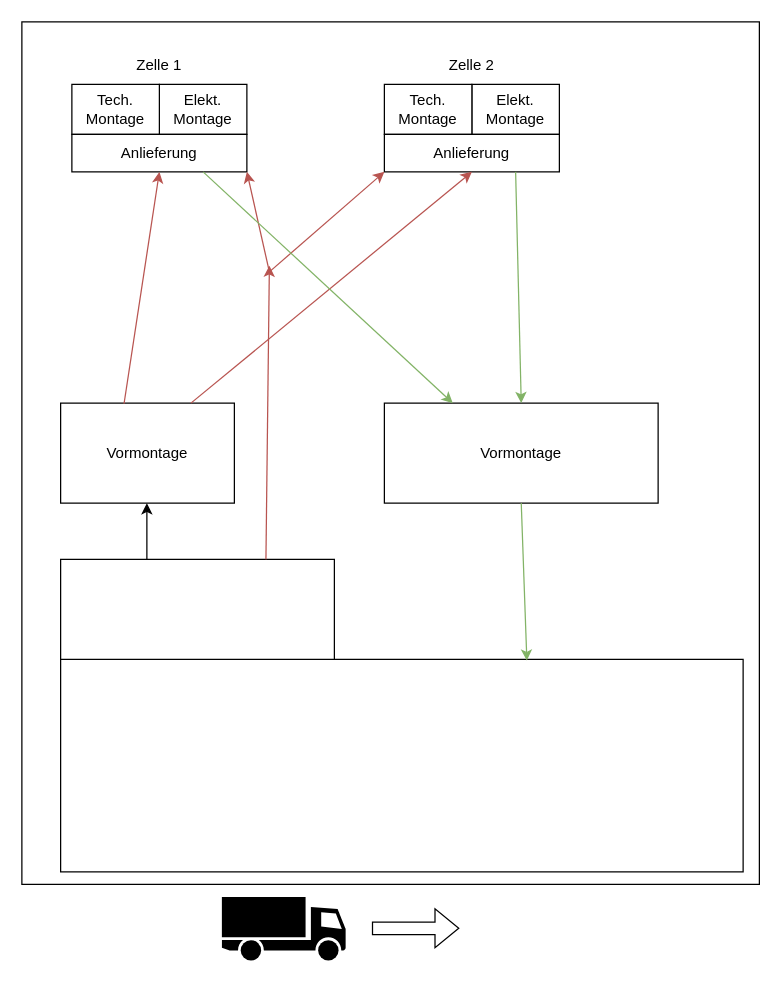
This 781x983 diagram has some shape labels left out. Here are the shapes that lost their labels. From the top down, the centre of each, then its label:
At pixel 196 608: "Komissionierung".
At pixel 401 765: "Spedition & Lager".
